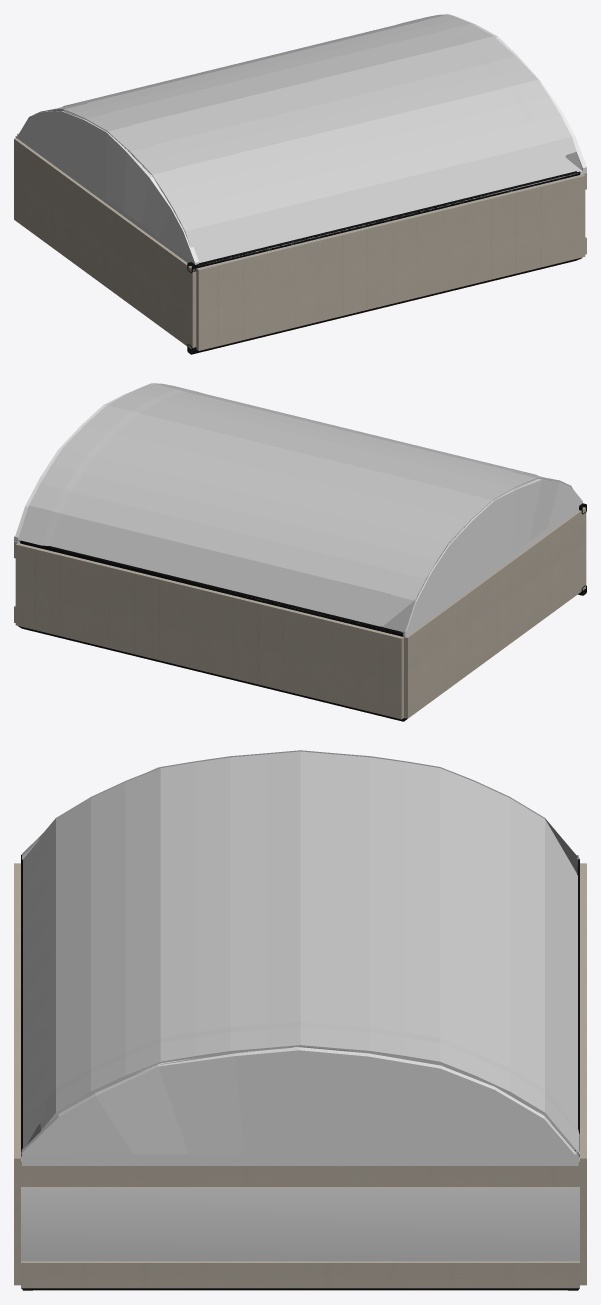
Rendered from lab estufa 1.fbx.
The picture shows the model from 3 angles, top to bottom: view 1: azimuth 30°, elevation 25°; view 2: azimuth 150°, elevation 25°; view 3: azimuth 270°, elevation 25°; orthographic projection. The views are drawn at different scales.
Visible parts, largest first — view 1: teto vidro, paredes lados, parede fundo, vidro tras teto, chanfros, vidro frente teto; view 2: teto vidro, paredes lados, parede fundo, vidro tras teto, chanfros, vidro frente teto; view 3: teto vidro, vidro frente teto, janela, paredes frente, paredes lados, chanfros, teto ferro.
Part boxes in pixels (bbox=[...]): teto vidro: bbox=[19, 14, 582, 265]; paredes lados: bbox=[15, 136, 585, 350]; parede fundo: bbox=[14, 138, 196, 349]; vidro tras teto: bbox=[17, 110, 198, 264]; chanfros: bbox=[187, 171, 581, 354]; vidro frente teto: bbox=[452, 15, 586, 173]; teto vidro: bbox=[18, 383, 572, 635]; paredes lados: bbox=[15, 543, 403, 719]; parede fundo: bbox=[404, 507, 586, 718]; vidro tras teto: bbox=[401, 478, 582, 636]; chanfros: bbox=[18, 503, 586, 721]; vidro frente teto: bbox=[14, 392, 129, 542]; teto vidro: bbox=[21, 750, 579, 1155]; vidro frente teto: bbox=[22, 1047, 578, 1165]; janela: bbox=[21, 1187, 579, 1261]; paredes frente: bbox=[21, 1157, 579, 1288]; paredes lados: bbox=[14, 863, 586, 1285]; chanfros: bbox=[21, 854, 579, 1290]; teto ferro: bbox=[21, 1046, 579, 1157].
Size of the model in its own units: 10229 by 3907 by 8200.
